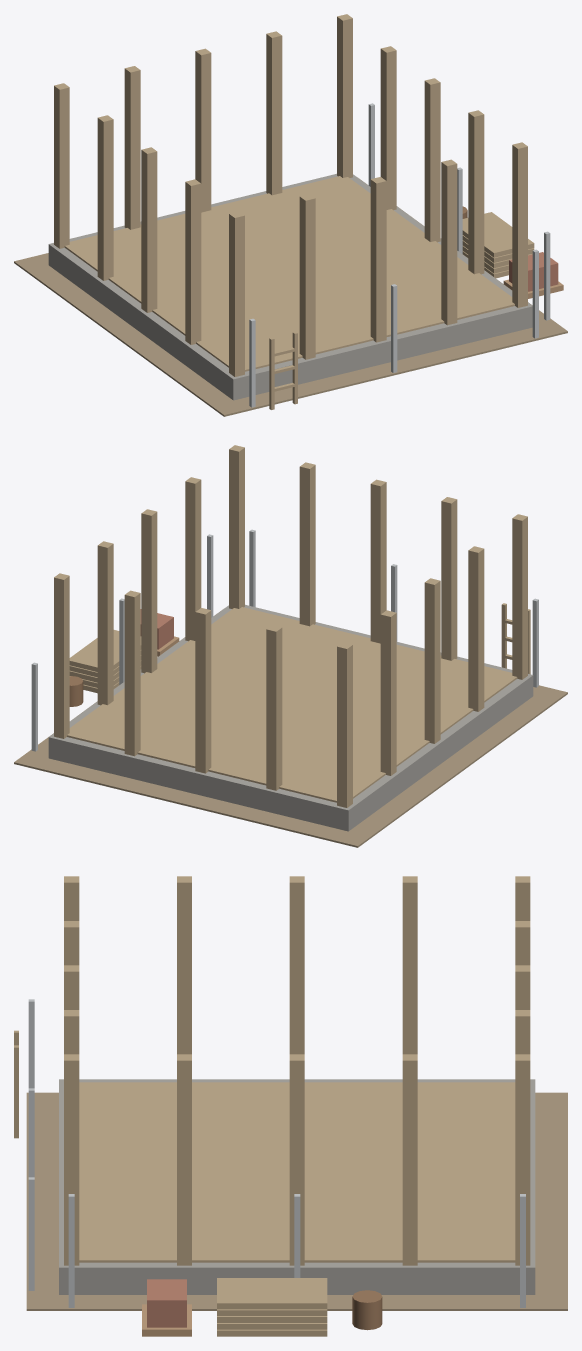
File: bakery_site_3.glb
The picture shows the model from 3 angles, top to bottom: view 1: azimuth 30°, elevation 25°; view 2: azimuth 150°, elevation 25°; view 3: azimuth 270°, elevation 25°; orthographic projection. The views are drawn at different scales.
Parts seen in each view (by area): view 1: body; view 2: body; view 3: body.
Part boxes in pixels (x1=…): body: x1=14, y1=14, x2=567, y2=416; body: x1=14, y1=445, x2=567, y2=847; body: x1=14, y1=876, x2=567, y2=1336.
Bounding box in the file's own units: 2.28 × 1.03 × 2.21.
